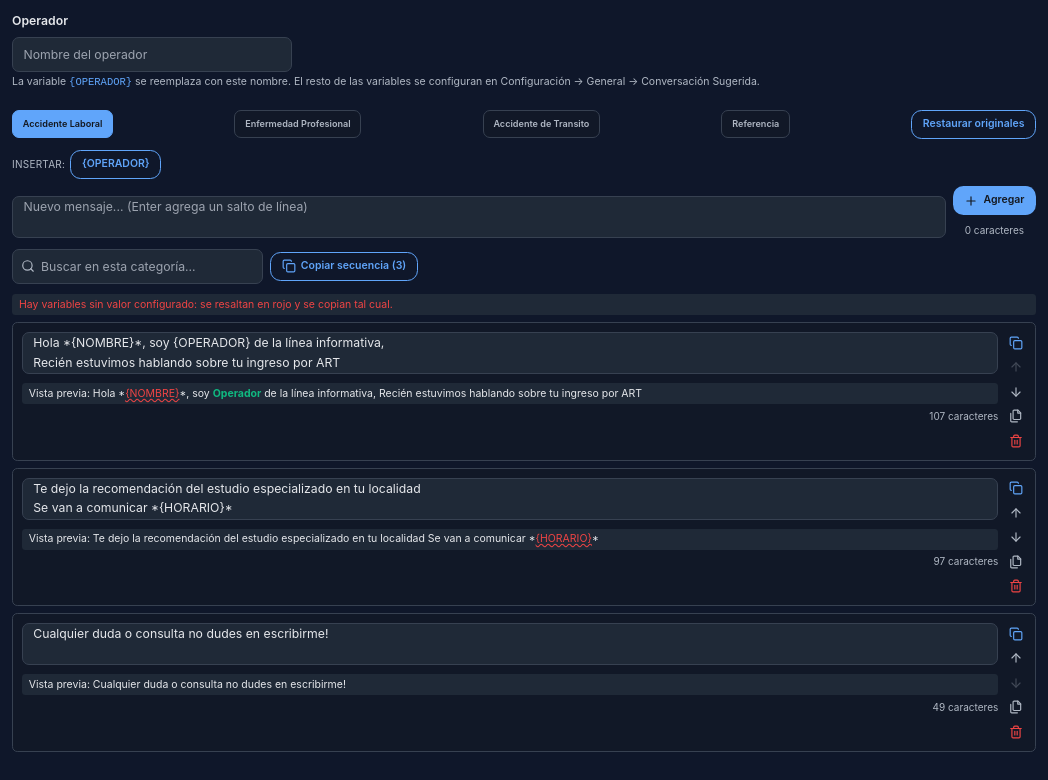
Scenario: ConversacionesSugeridasView (1.9.6) › muestra el contador de caracteres del textarea de alta
Expected: the text "0 caracteres" is shown, [965,224,1024,236]
Type "Hola a todos" into the text box with placeholder "Nuevo mensaje... (Enter agrega un salto de línea)" at (479, 217), box [12,196,946,238]
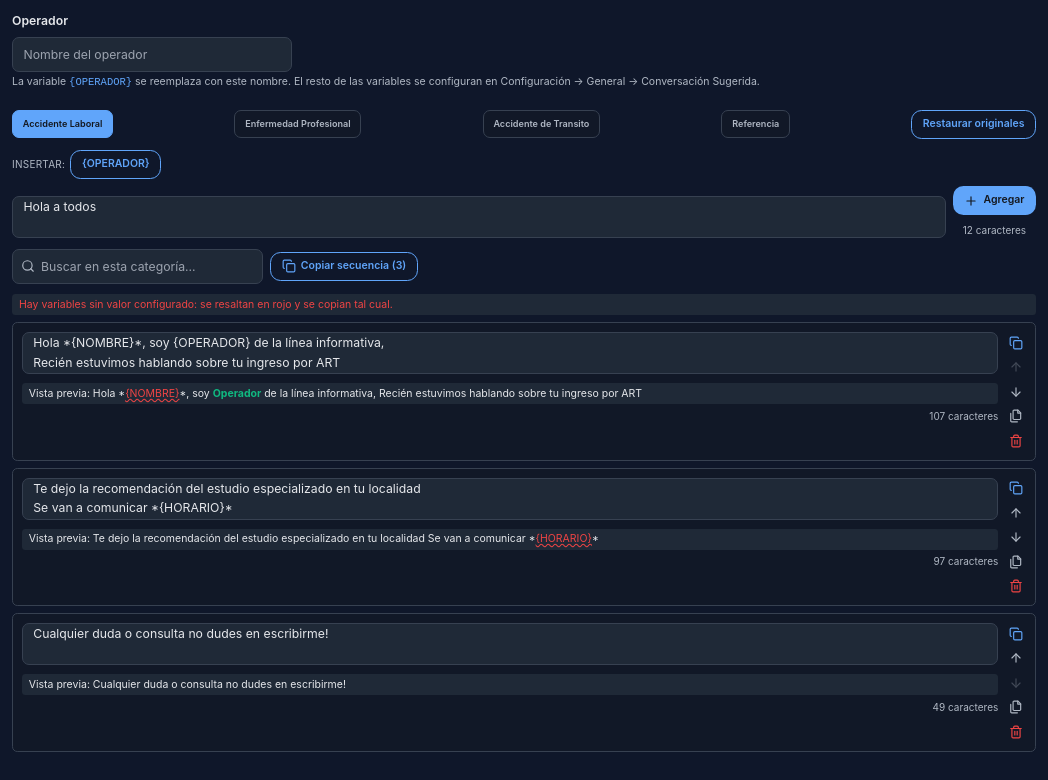
Now the text "12 caracteres" is shown, box [963,224,1026,236]
